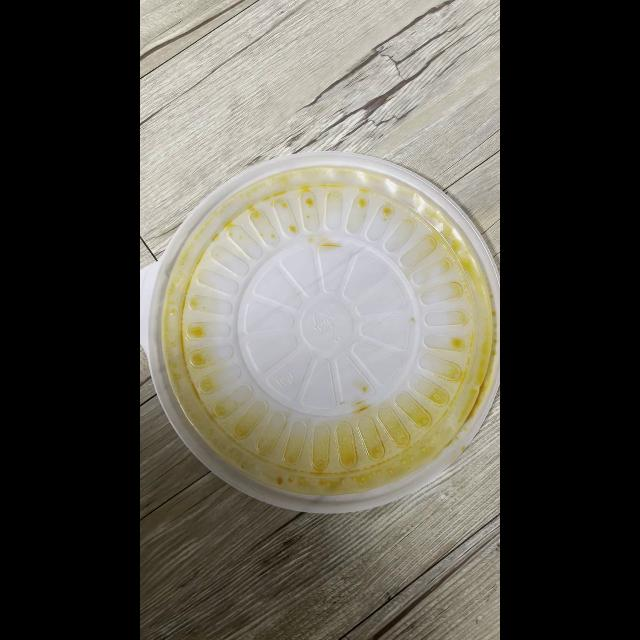dirty: (143, 153, 495, 504)
